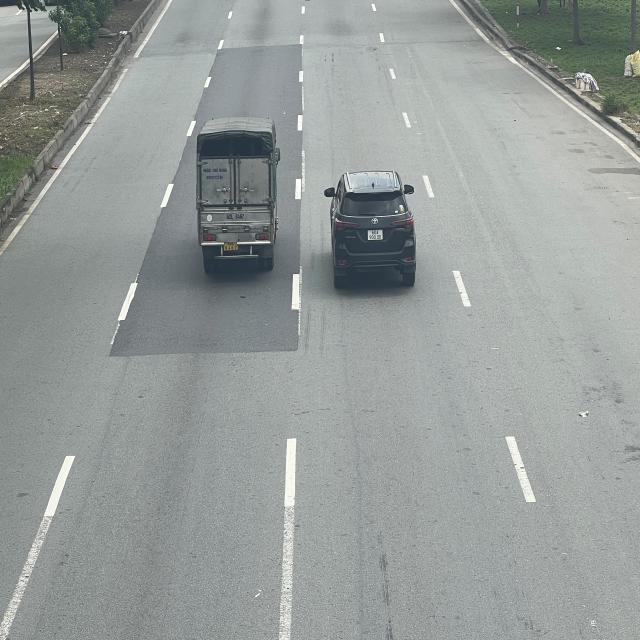car: (324, 170, 417, 285)
truck: (196, 118, 279, 272)
